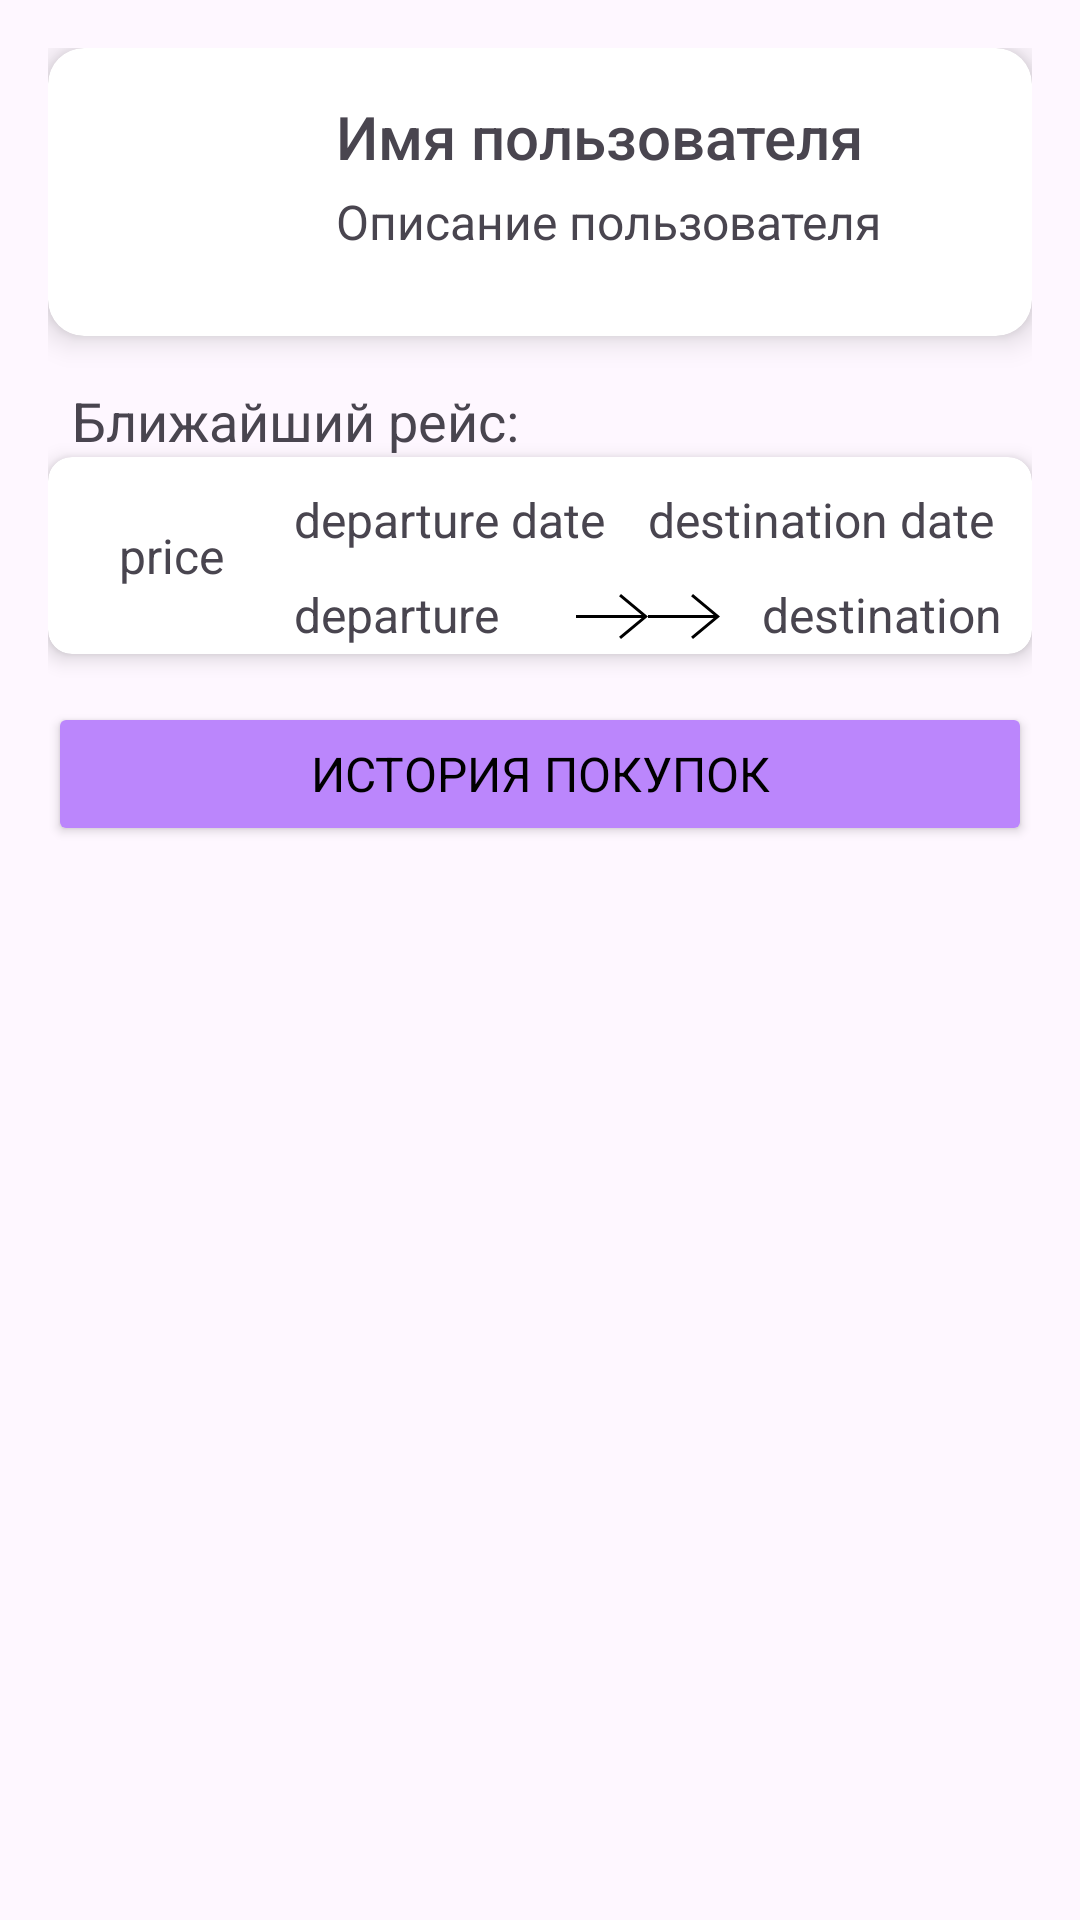

Screen size 1080w x 1920h. Icon name, then its center in pixels as (x,y):
arrow right: (612,616), (684,616)
